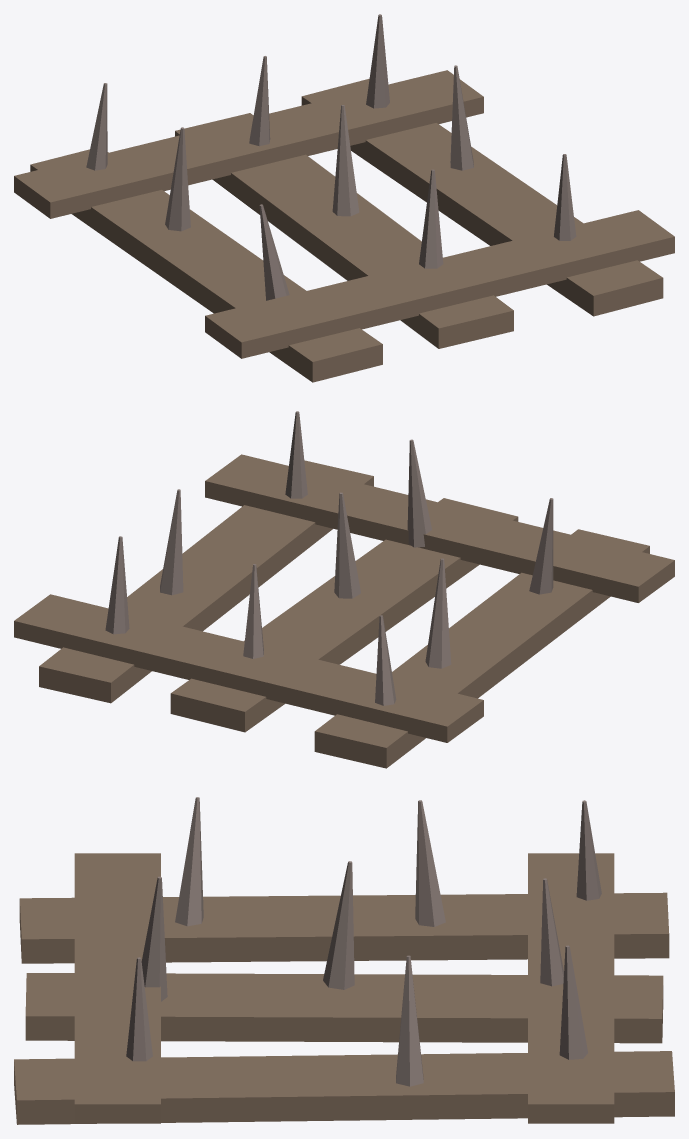
Rendered from trap_spike.glb.
3 renders of one model, top to bottom at view 1: azimuth 30°, elevation 25°; view 2: azimuth 150°, elevation 25°; view 3: azimuth 270°, elevation 25°, orthographic. The views are drawn at different scales.
Parts seen in each view (by area): view 1: TrapSpike; view 2: TrapSpike; view 3: TrapSpike.
Part boxes in pixels (x1,y1,x2,y2): TrapSpike: [14, 14, 674, 382]; TrapSpike: [14, 411, 674, 768]; TrapSpike: [14, 797, 674, 1124].
Bounding box in the file's own units: 1.1 × 0.3249 × 1.22.
